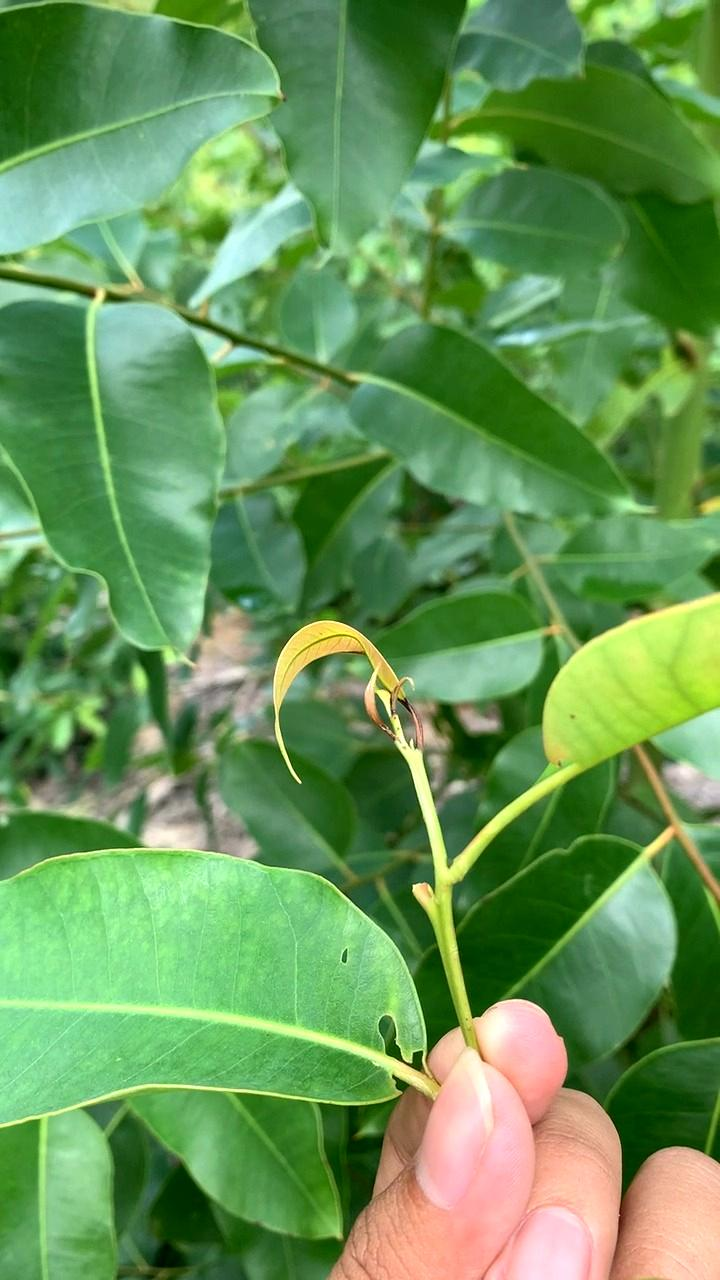Helopeltis-Withered Sprout: (255, 601, 443, 795)
